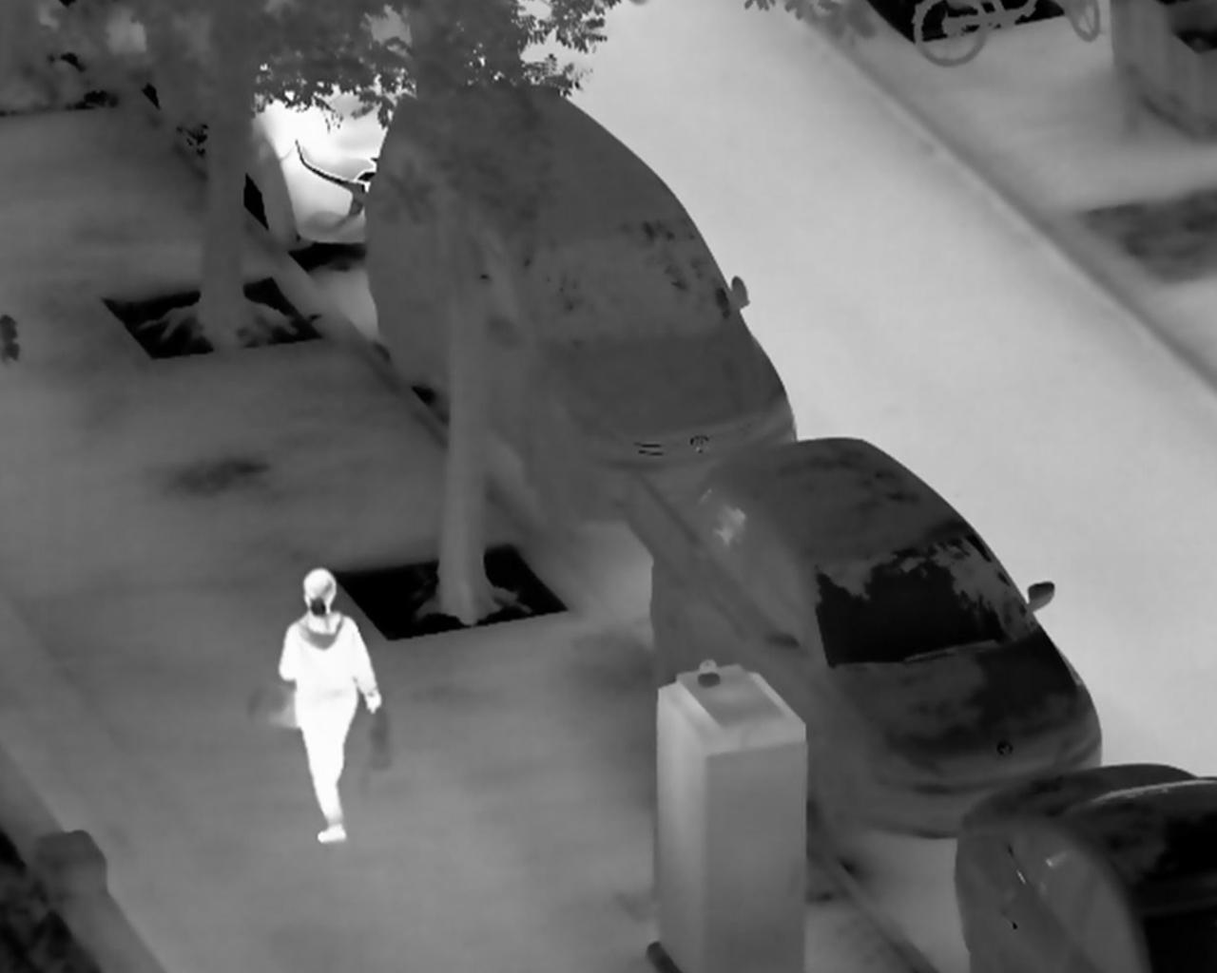person: (276, 563, 384, 848)
